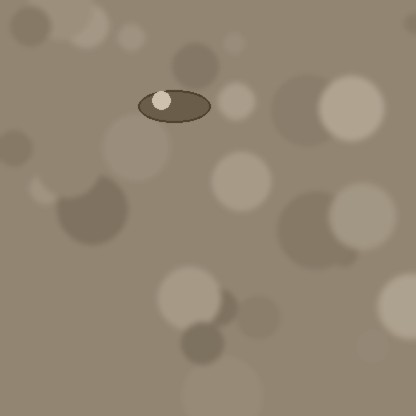gota: (138, 91, 210, 125)
